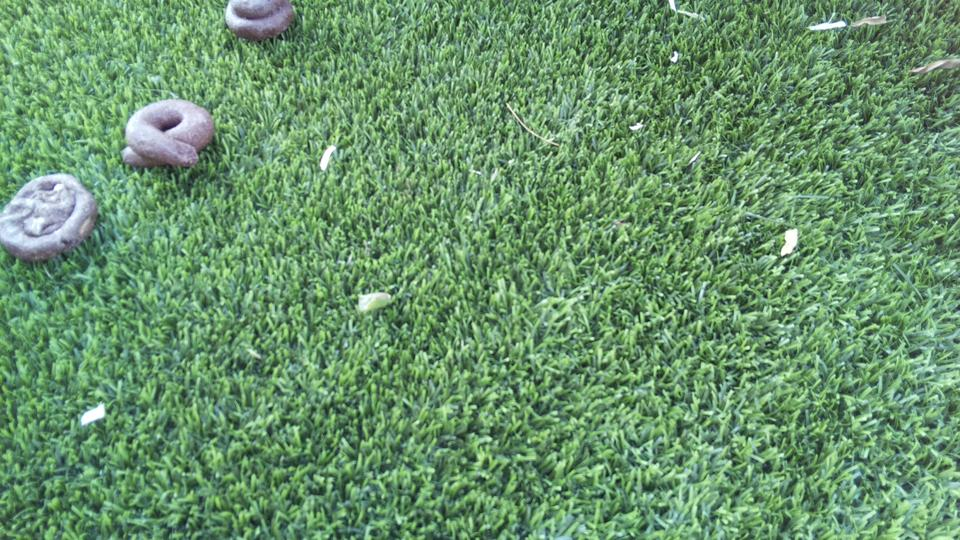poop: (1, 171, 96, 265), (116, 97, 214, 174), (222, 1, 300, 42)
